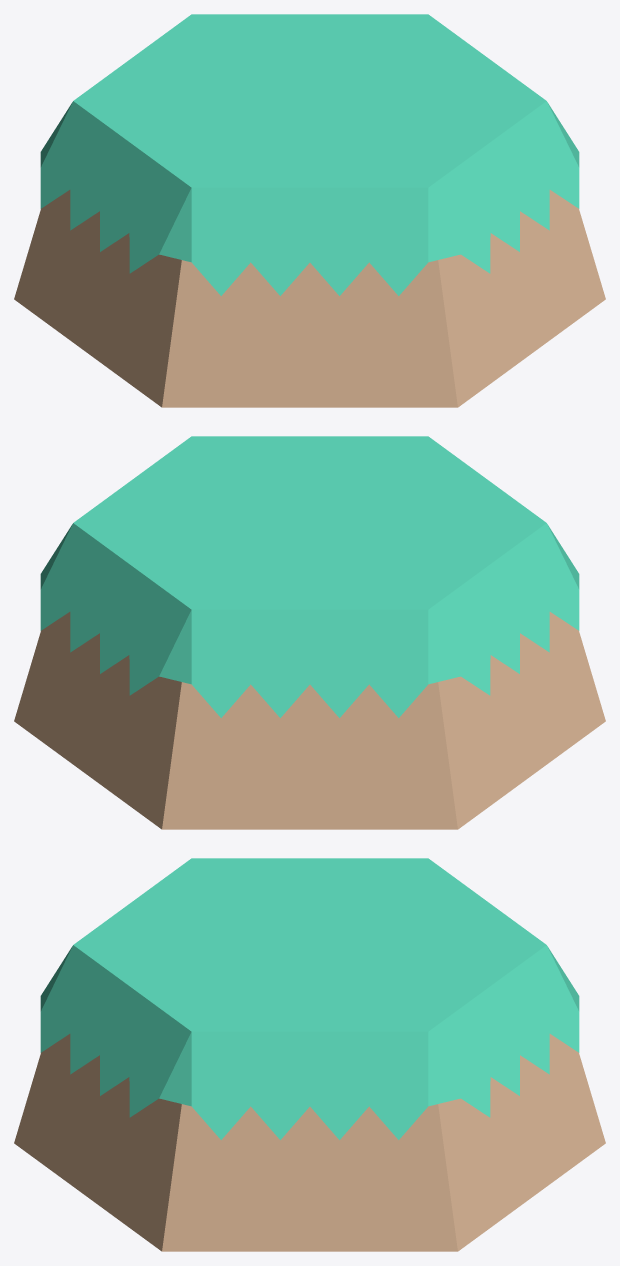
File: blockHexagonLow.glb
3 views of the same model, one above another, from view 1: azimuth 30°, elevation 25°; view 2: azimuth 150°, elevation 25°; view 3: azimuth 270°, elevation 25° (orthographic).
Visible parts, largest first — view 1: blockHexagonLow(Clone); view 2: blockHexagonLow(Clone); view 3: blockHexagonLow(Clone).
Part boxes in pixels (bbox=[...]): blockHexagonLow(Clone): bbox=[14, 14, 605, 407]; blockHexagonLow(Clone): bbox=[14, 436, 605, 829]; blockHexagonLow(Clone): bbox=[14, 858, 605, 1251].
Size of the model in its own units: 1.01 by 0.427 by 1.15.
